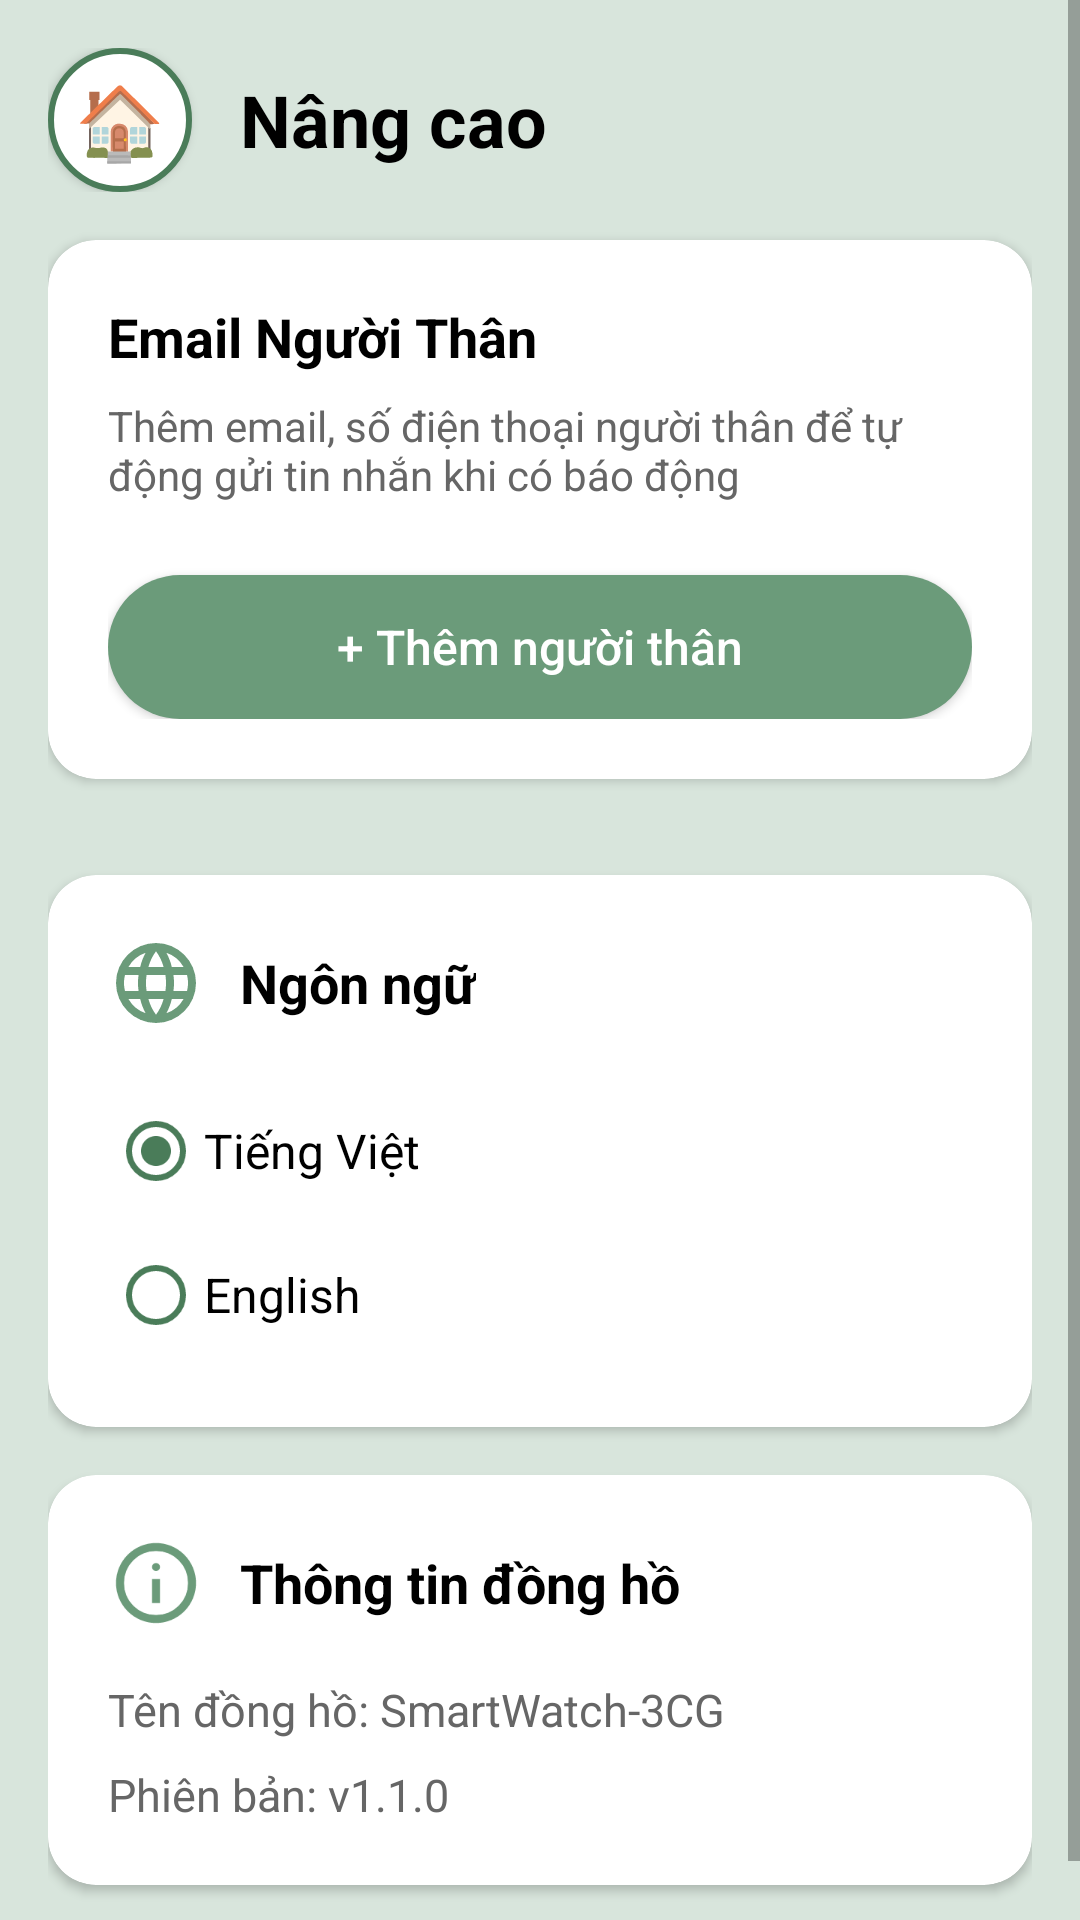

Screen size 1080px x 1920px. Icon name, then its center in pixels as [x,y]:
Globe: [156,983]
